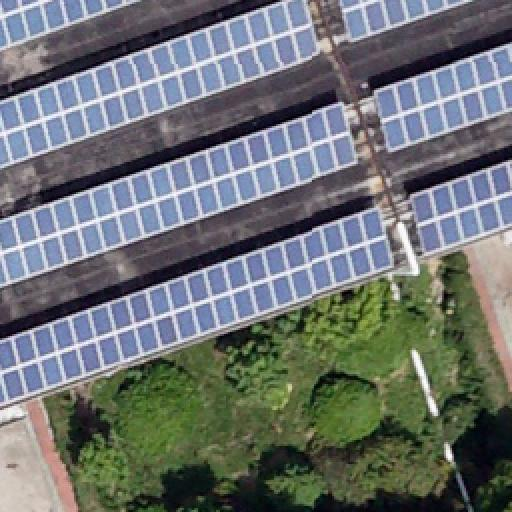solar-panel: (0, 208, 392, 404), (0, 100, 356, 284), (0, 0, 320, 168), (372, 42, 512, 154), (408, 160, 512, 256), (0, 0, 144, 52), (339, 1, 477, 47)
